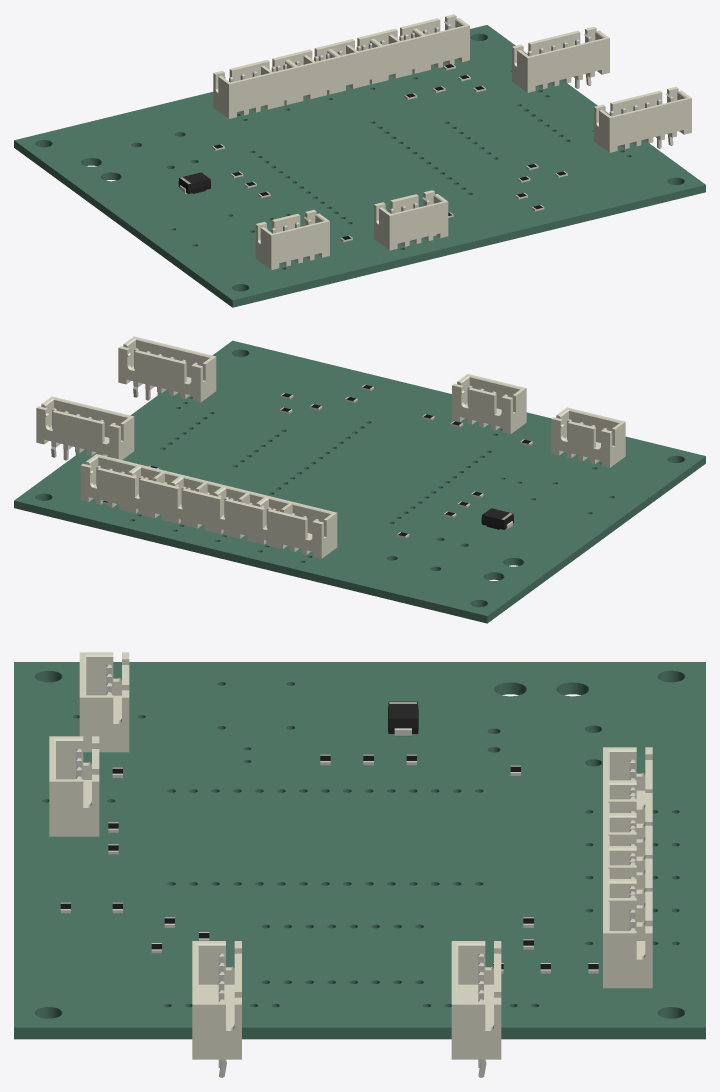
File: roversar.glb
3 views of the same model, one above another, from view 1: azimuth 30°, elevation 25°; view 2: azimuth 150°, elevation 25°; view 3: azimuth 270°, elevation 25° (orthographic). The views are drawn at different scales.
Parts seen in each view (by area): view 1: =>[0:1:1:12], =>[0:1:1:9] (×5), =>[0:1:1:5] (×2), =>[0:1:1:7] (×2), =>[0:1:1:11]; view 2: =>[0:1:1:12], =>[0:1:1:9] (×5), =>[0:1:1:5] (×2), =>[0:1:1:7] (×2), =>[0:1:1:11]; view 3: =>[0:1:1:12], =>[0:1:1:9] (×5), =>[0:1:1:5] (×2), =>[0:1:1:7] (×2), =>[0:1:1:11].
Part boxes in pixels (left/top/right/bottom): =>[0:1:1:12]: left=14, top=25, right=705, bottom=307; =>[0:1:1:9] (×5): left=213, top=14, right=469, bottom=118; =>[0:1:1:5] (×2): left=512, top=26, right=691, bottom=152; =>[0:1:1:7] (×2): left=255, top=190, right=448, bottom=269; =>[0:1:1:11]: left=178, top=172, right=210, bottom=193; =>[0:1:1:12]: left=14, top=340, right=705, bottom=623; =>[0:1:1:9] (×5): left=80, top=454, right=337, bottom=558; =>[0:1:1:5] (×2): left=36, top=336, right=216, bottom=460; =>[0:1:1:7] (×2): left=452, top=374, right=625, bottom=467; =>[0:1:1:11]: left=481, top=508, right=513, bottom=529; =>[0:1:1:12]: left=14, top=662, right=705, bottom=1039; =>[0:1:1:9] (×5): left=603, top=747, right=652, bottom=988; =>[0:1:1:5] (×2): left=192, top=941, right=501, bottom=1077; =>[0:1:1:7] (×2): left=49, top=652, right=129, bottom=836; =>[0:1:1:11]: left=388, top=701, right=418, bottom=736.
Bounding box in the file's own units: 0.1089 × 0.0104 × 0.08.
